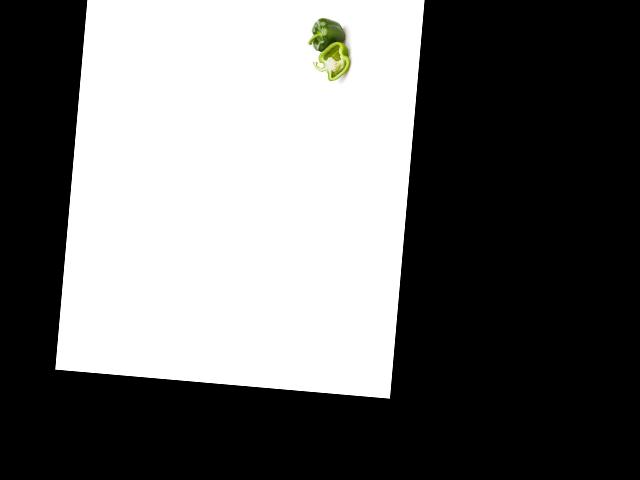bell_pepper: (309, 38, 351, 84)
